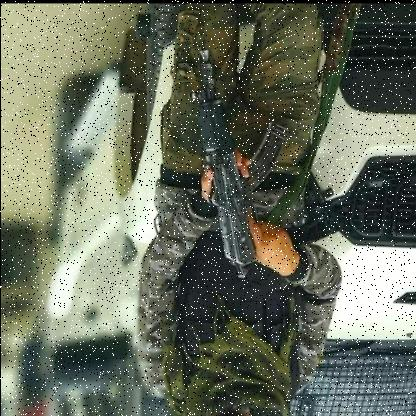rifle: (184, 44, 290, 280)
